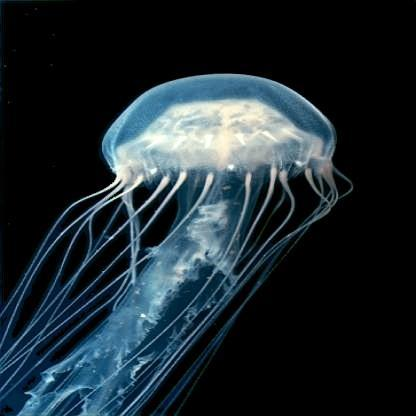Mosaic: (35, 78, 345, 412)
